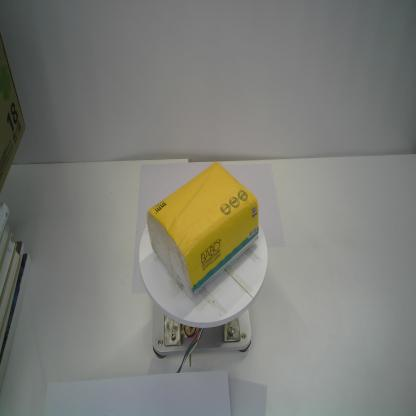Tissue: (144, 159, 260, 301)
